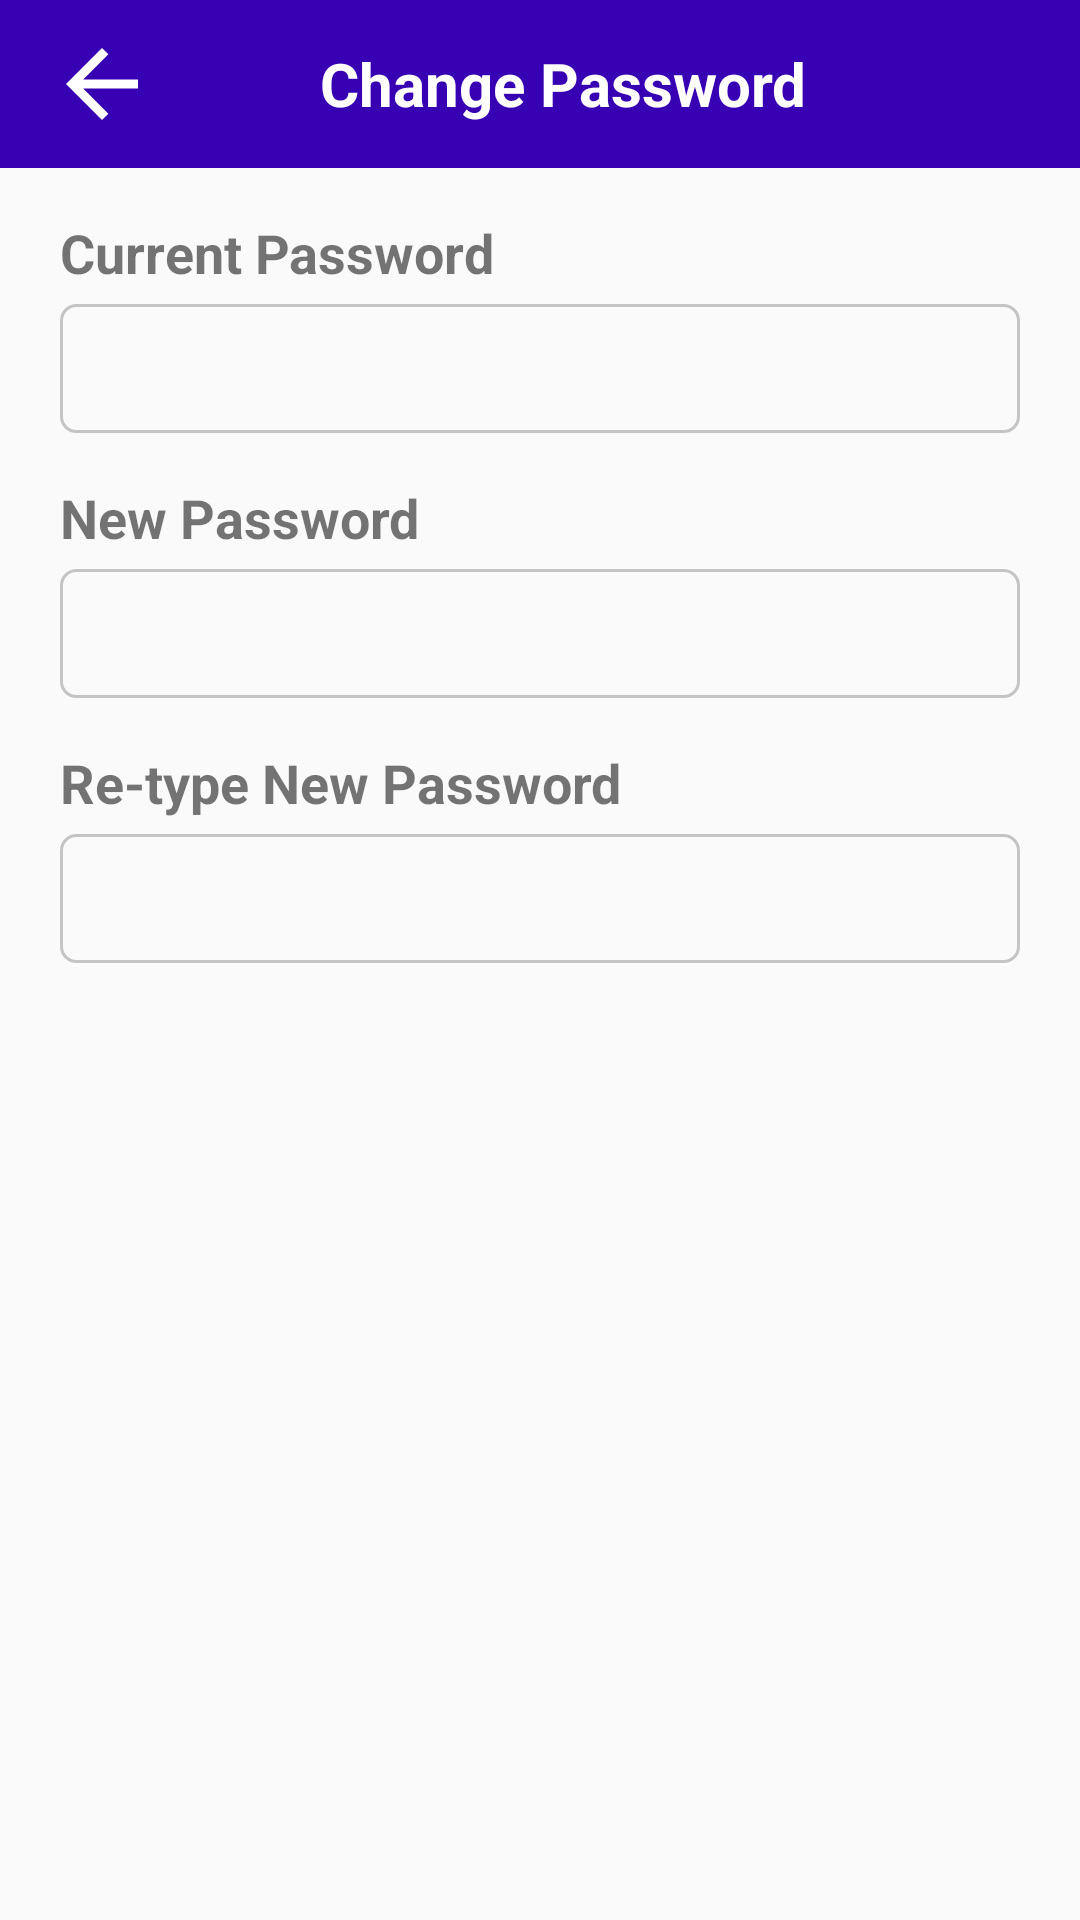

Locate icon controls on the screen. Image size 1080 × 1920, boxes as (x1, y1, x2, y2).
back: (66, 48, 138, 120)
